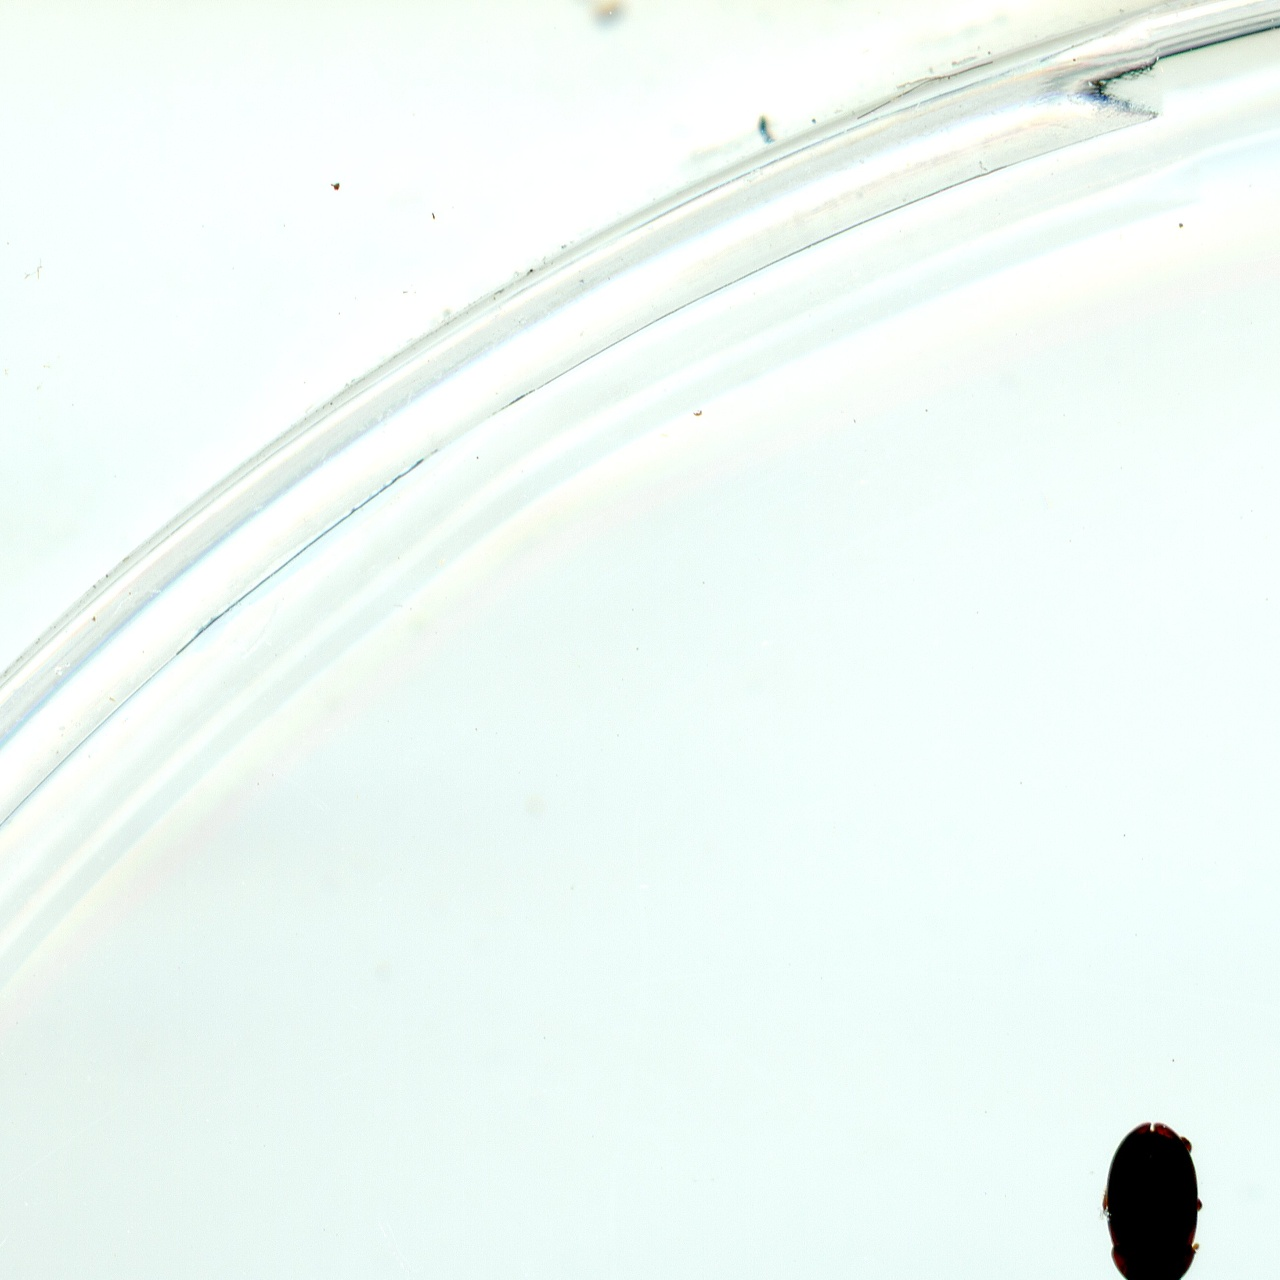arthropod: (1097, 1122, 1210, 1280)
